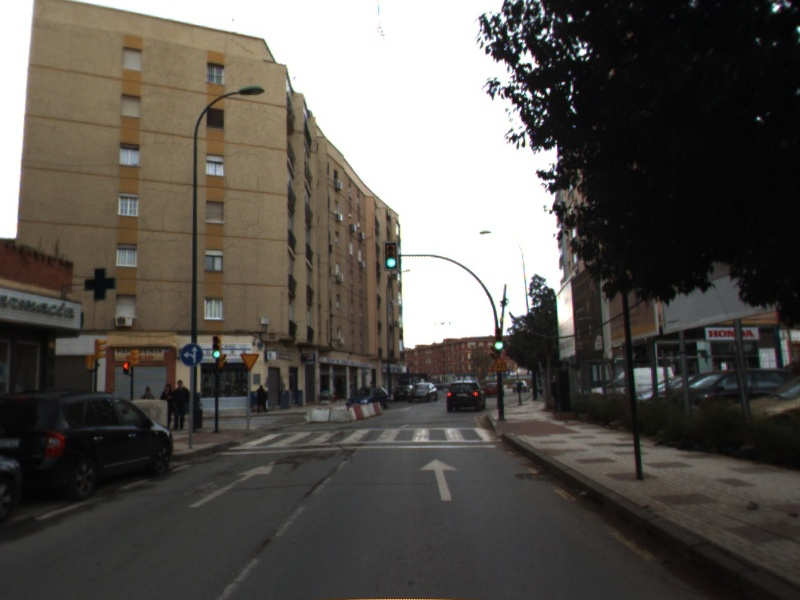STRAIGHT: (187, 459, 277, 509), (417, 456, 459, 503)
